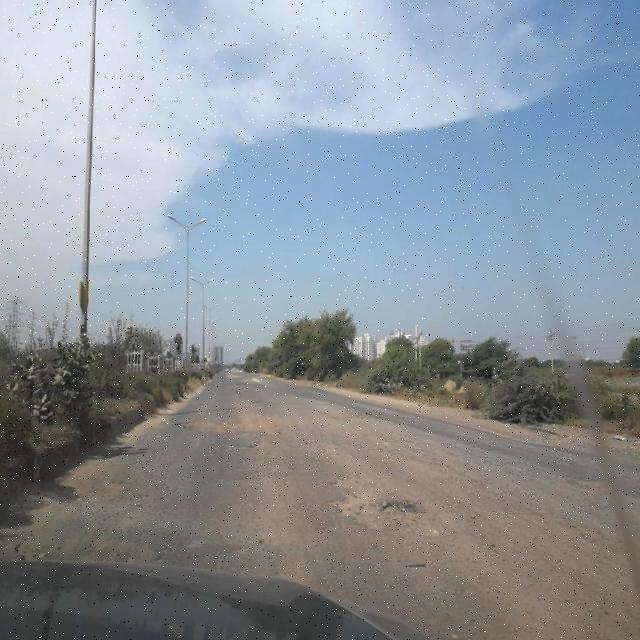D00: (191, 463, 218, 515)
D40: (8, 508, 176, 566), (322, 464, 428, 540), (181, 393, 305, 453), (68, 462, 143, 508), (312, 399, 380, 443)
